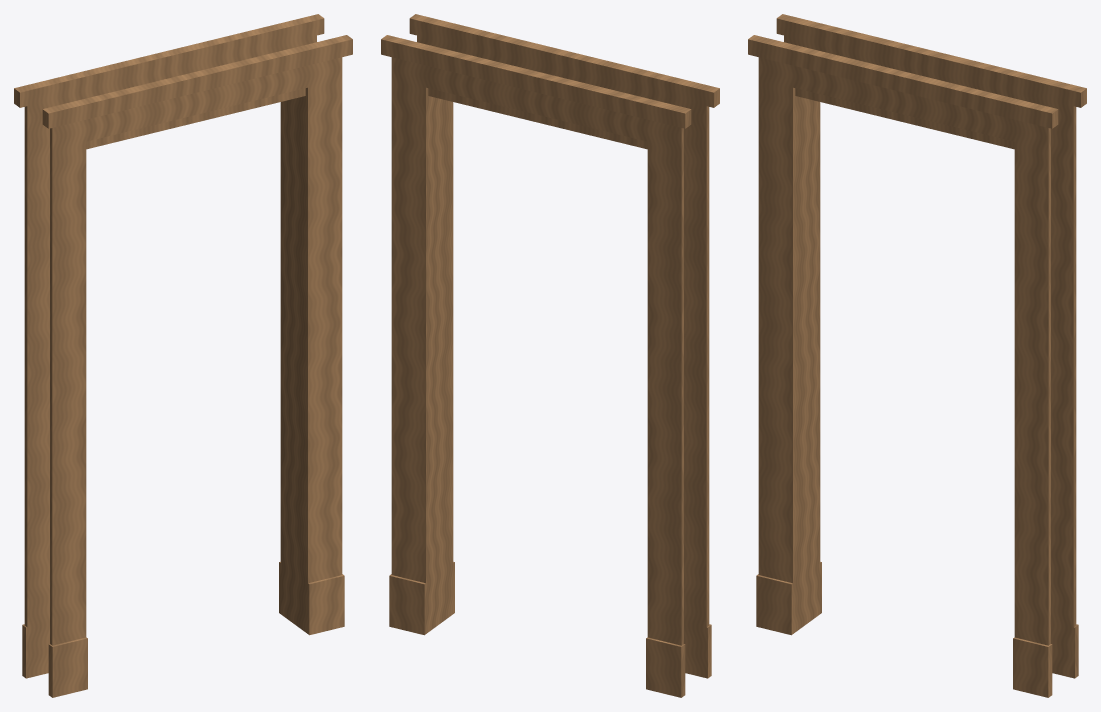
File: mlo_door_frame_classic_oak.glb
The picture shows the model from 3 angles, left to right: view 1: azimuth 30°, elevation 25°; view 2: azimuth 150°, elevation 25°; view 3: azimuth 330°, elevation 25°; orthographic projection.
Visible parts, largest first — view 1: Door_Frame_Classic_Oak; view 2: Door_Frame_Classic_Oak; view 3: Door_Frame_Classic_Oak.
Boxes of the visible parts, x1=… form: Door_Frame_Classic_Oak: x1=14, y1=14, x2=352, y2=697; Door_Frame_Classic_Oak: x1=381, y1=14, x2=719, y2=697; Door_Frame_Classic_Oak: x1=748, y1=14, x2=1086, y2=697.
Bounding box in the file's own units: 1.25 × 2.31 × 0.246.
1 material, 1 textured.
